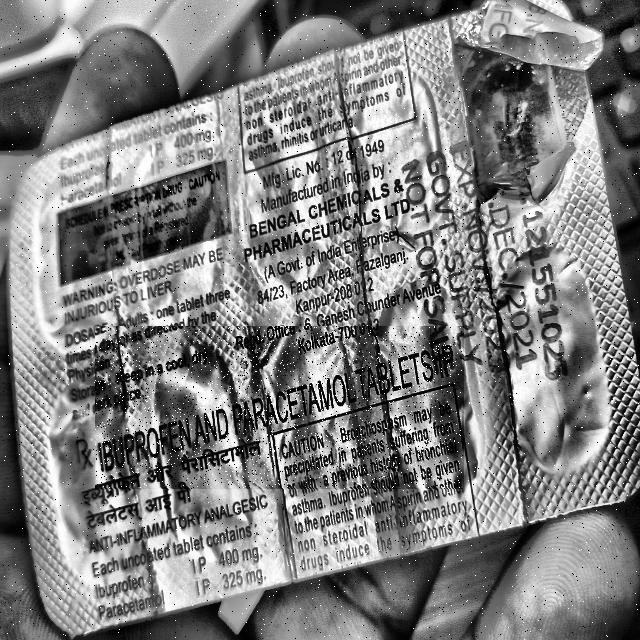IBUPROFEN AND PARACETAMOL TABLETS: (96, 326, 463, 488)
